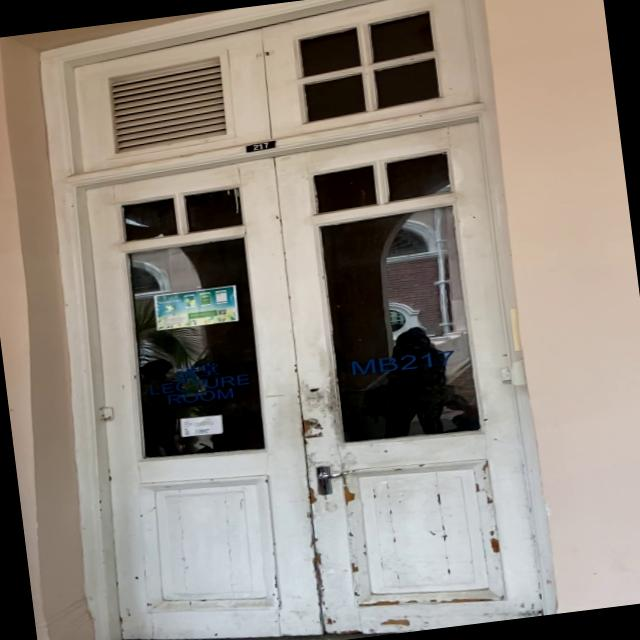room217: (244, 140, 277, 154)
room217Window: (344, 344, 462, 382)
